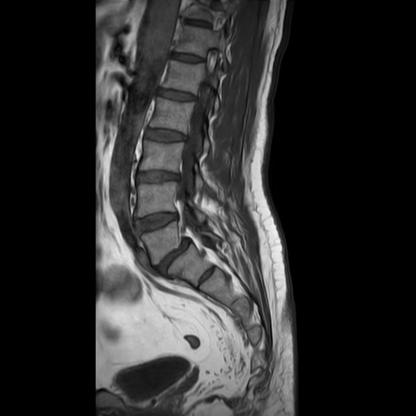Disc Bulgerotation: (134, 211, 183, 236), (150, 247, 201, 269), (134, 169, 182, 188)
